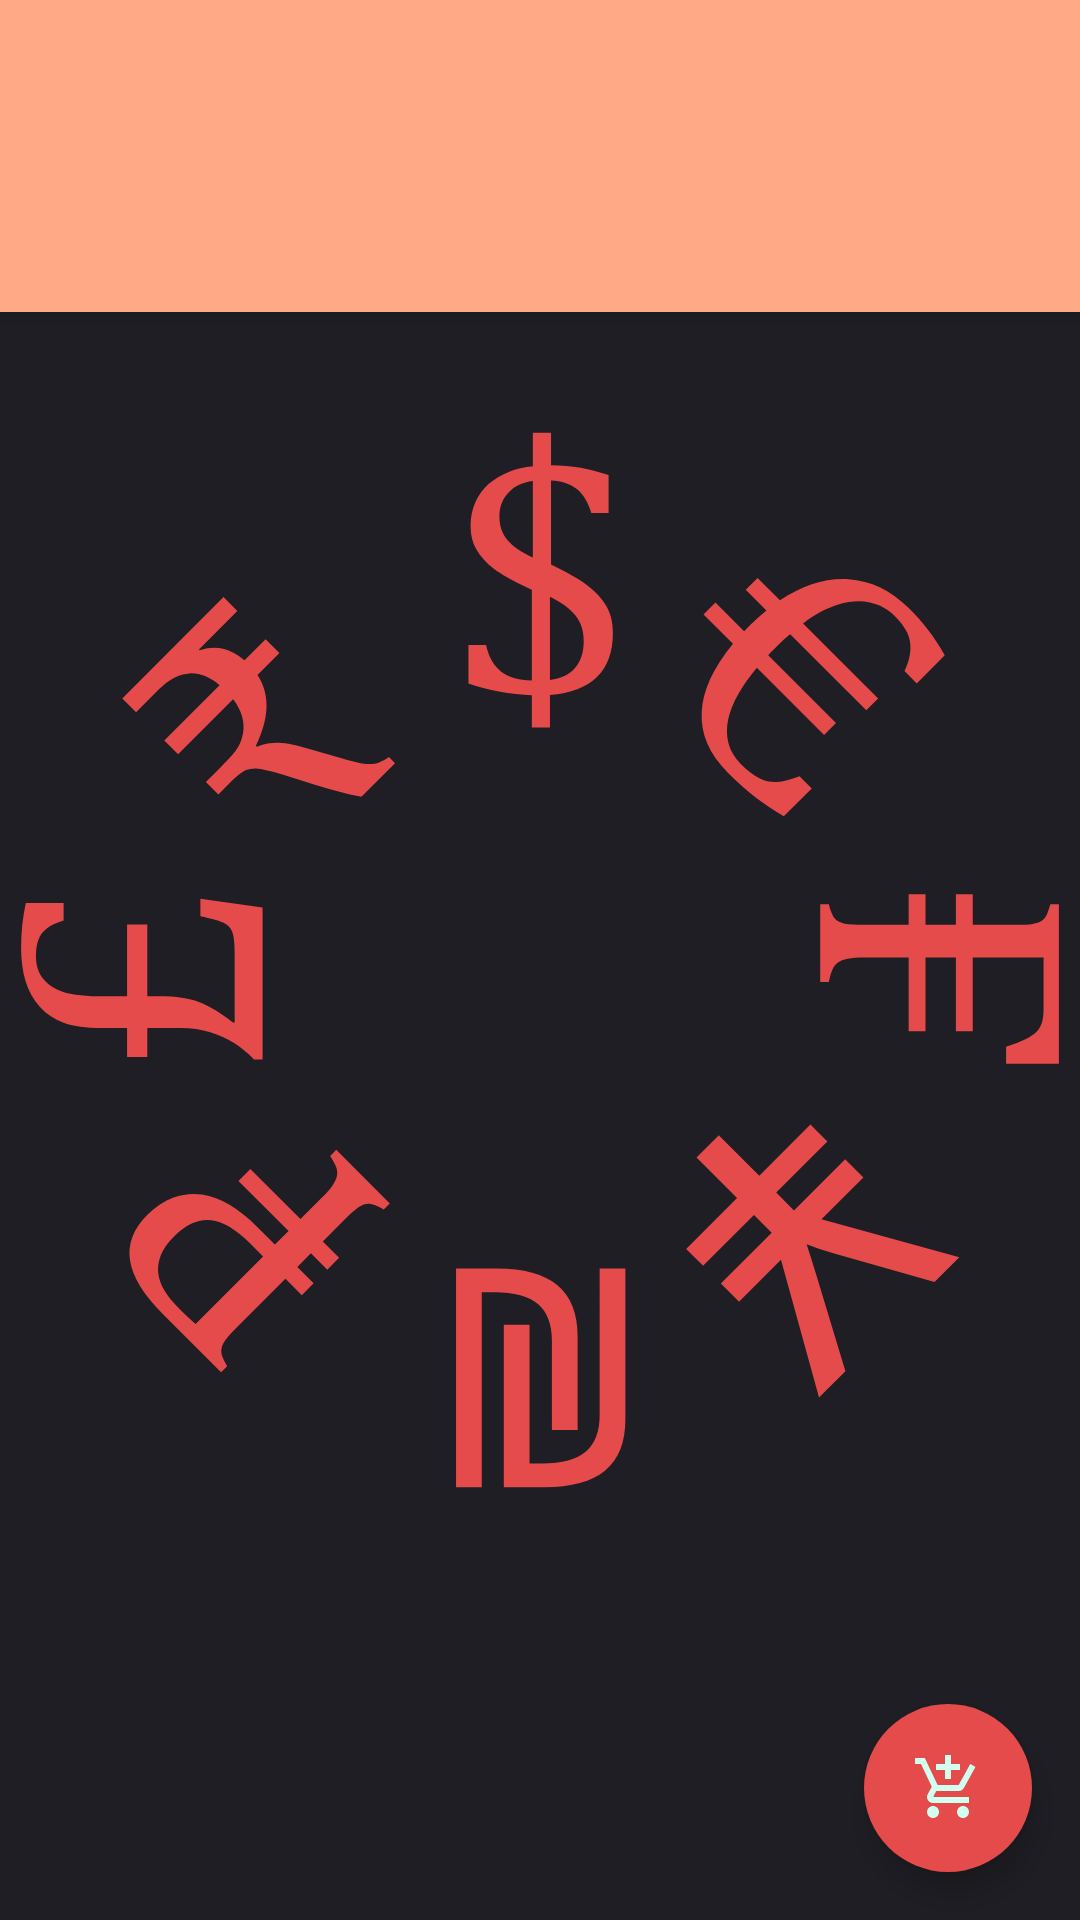

Screen size 1080*1920. Icon name, then its center in pixels as (x,y):
add shopping cart: (948,1788)
